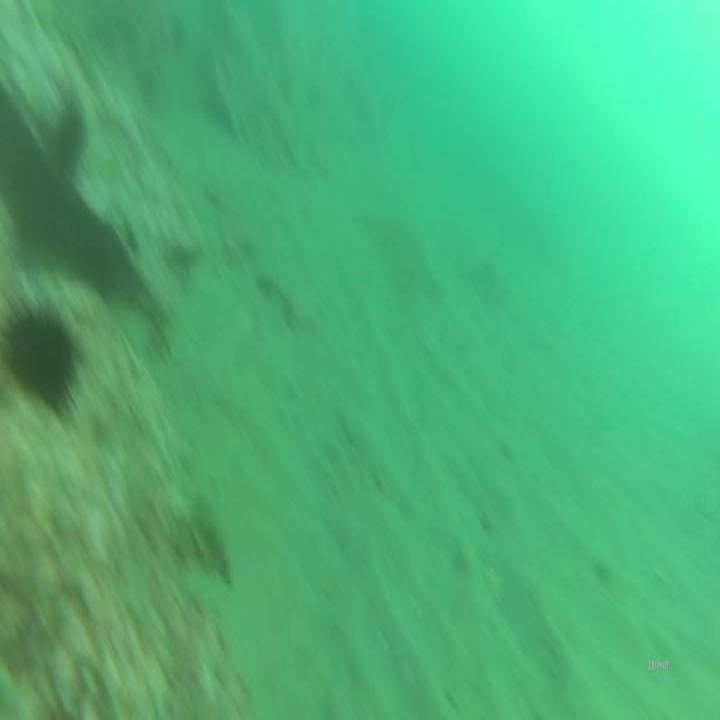echinus: (0, 279, 85, 420), (48, 89, 95, 176)
